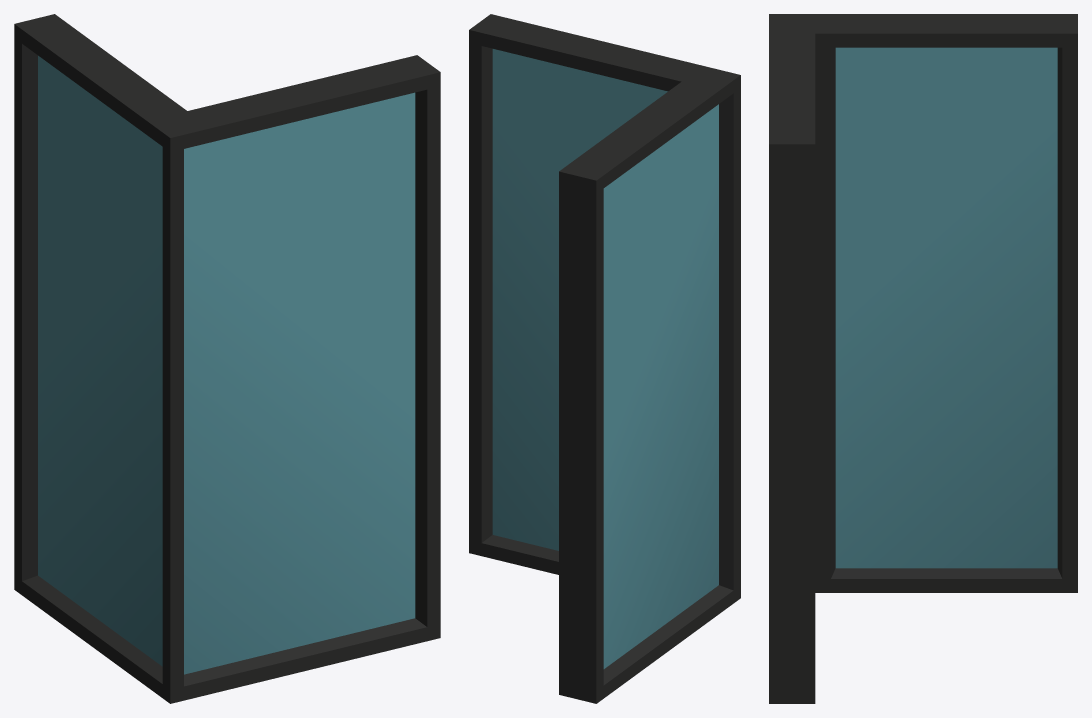
The model's file is tallWindowLightCorner.fbx.
3 renders of one model, left to right at view 1: azimuth 30°, elevation 25°; view 2: azimuth 150°, elevation 25°; view 3: azimuth 270°, elevation 25°, orthographic. The views are drawn at different scales.
Visible parts, largest first — view 1: tallWindowLightCorner; view 2: tallWindowLightCorner; view 3: tallWindowLightCorner.
Part boxes in pixels (box(x1,y1,x2,y2)): tallWindowLightCorner: box(14, 14, 440, 703); tallWindowLightCorner: box(469, 14, 740, 703); tallWindowLightCorner: box(769, 14, 1077, 703).
Bounding box in the file's own units: 200 × 400 × 200.
Materials: 1 (1 with a texture image).
